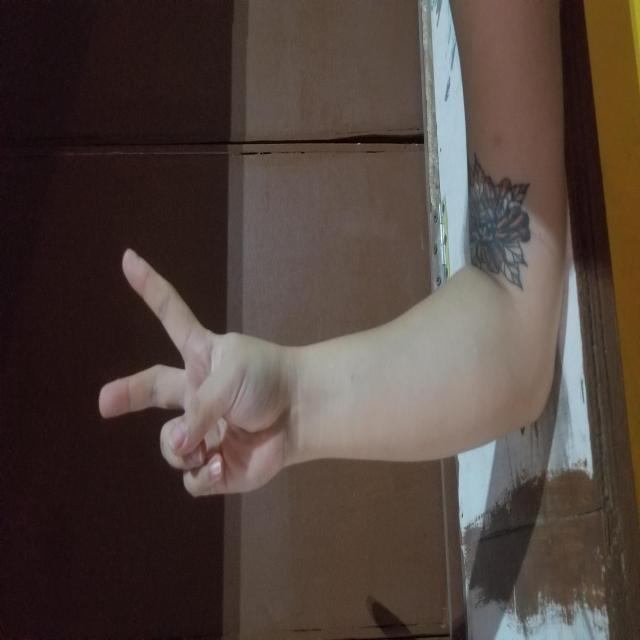V: (146, 99, 394, 287)
